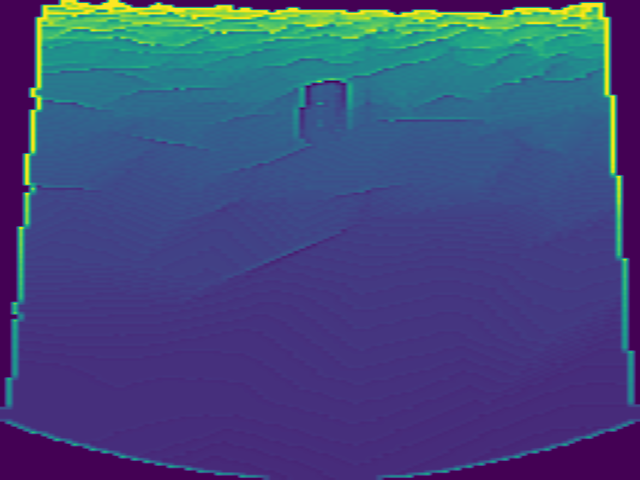car_0198: (299, 78, 350, 145)
